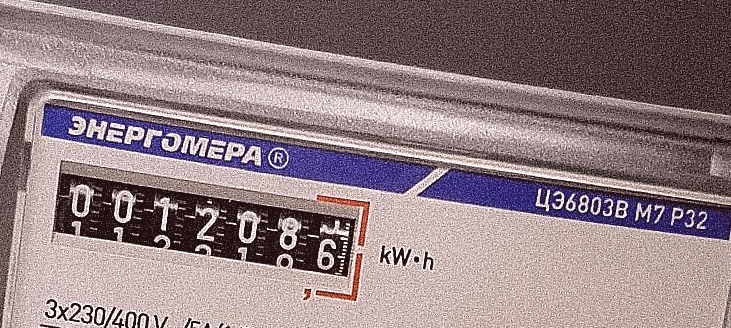0: (65, 178, 96, 220), (232, 206, 261, 245), (109, 186, 137, 226)
1: (150, 193, 176, 234)
2: (191, 203, 222, 244)
6: (311, 234, 339, 273)
8: (273, 213, 302, 253)
screen: (38, 152, 380, 308)
